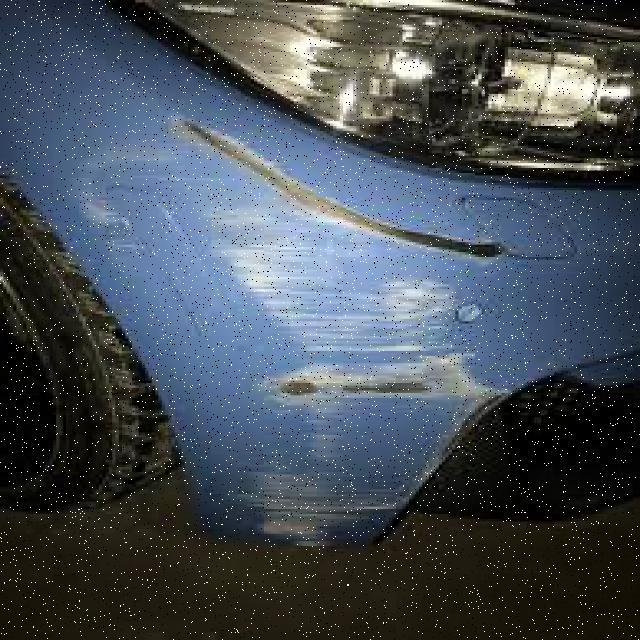front-bumper-dent: (20, 84, 598, 600)
